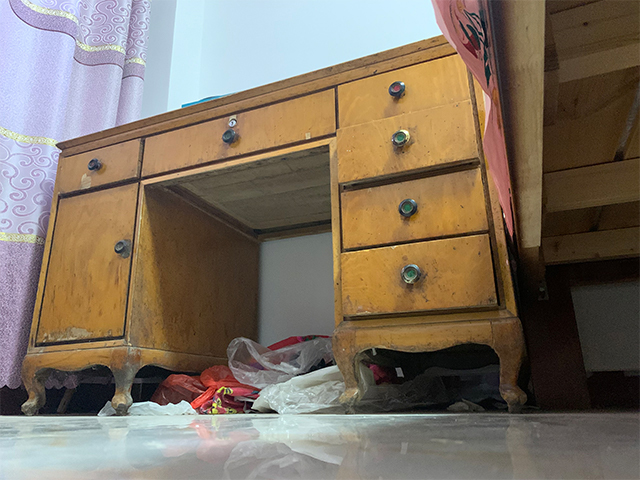cabinet: (18, 33, 531, 417)
curtain: (1, 1, 151, 390)
